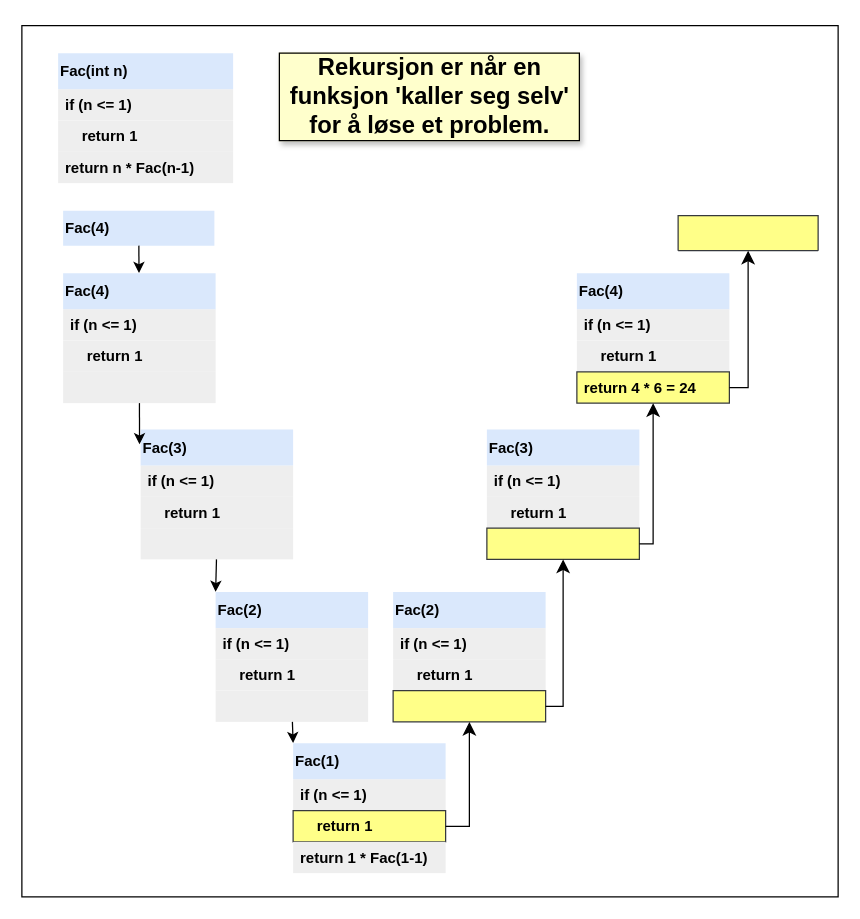
The diagram is 860 pixels wide and 919 high, and some of its shapes have lost their labels. The centre of each missing label's shape, as x and y in pixels:
"Fac(4) = 24" belongs at pixel 747 232.
"return 2 * 1 = 2" belongs at pixel 469 705.
"return 2 * Fac(2-1)" belongs at pixel 291 705.
"return 3 * 2 = 6" belongs at pixel 562 543.
"return 3 * Fac(3-1)" belongs at pixel 216 543.
"return 4 * Fac(4-1)" belongs at pixel 138 386.
